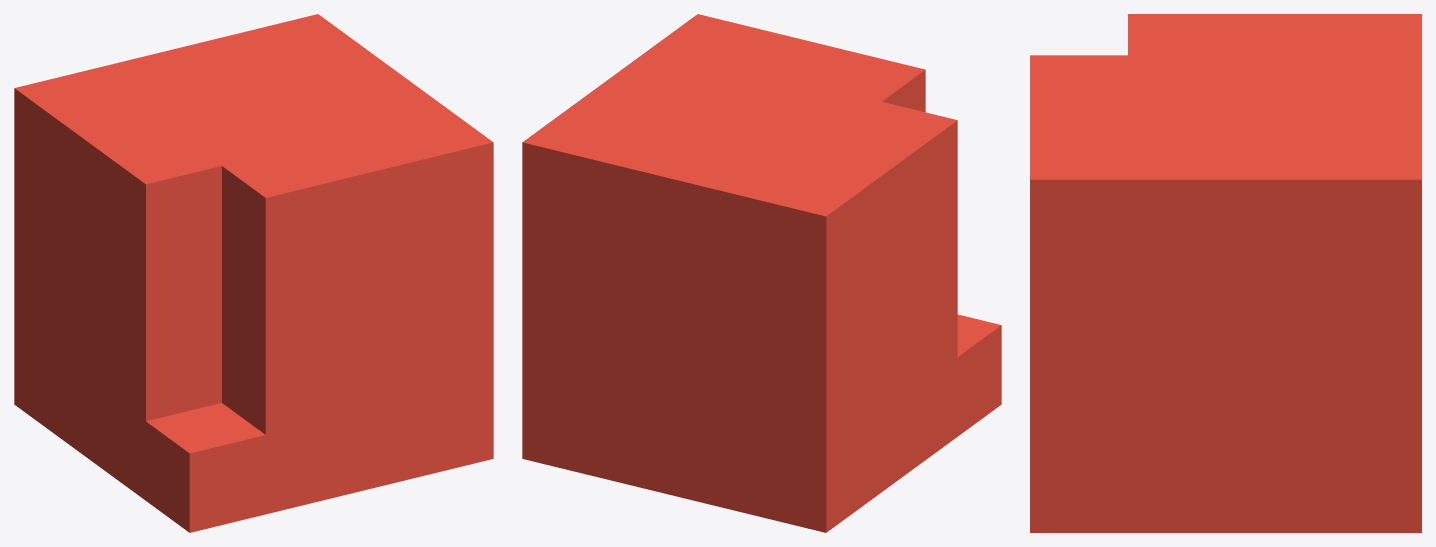
Rendered from Wall_Bottom_07.fbx.
3 renders of one model, left to right at view 1: azimuth 30°, elevation 25°; view 2: azimuth 150°, elevation 25°; view 3: azimuth 270°, elevation 25°, orthographic. The views are drawn at different scales.
Visible parts, largest first — view 1: Cube.331; view 2: Cube.331; view 3: Cube.331.
Boxes of the visible parts, <box> form: Cube.331: <box>14,14,493,532</box>; Cube.331: <box>522,14,1001,532</box>; Cube.331: <box>1030,14,1421,532</box>.
Size of the model in its own units: 100 by 99.54 by 100.
